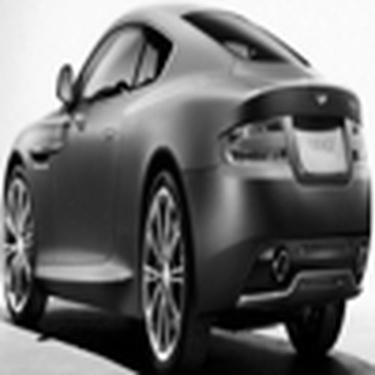car: (1, 2, 368, 370)
